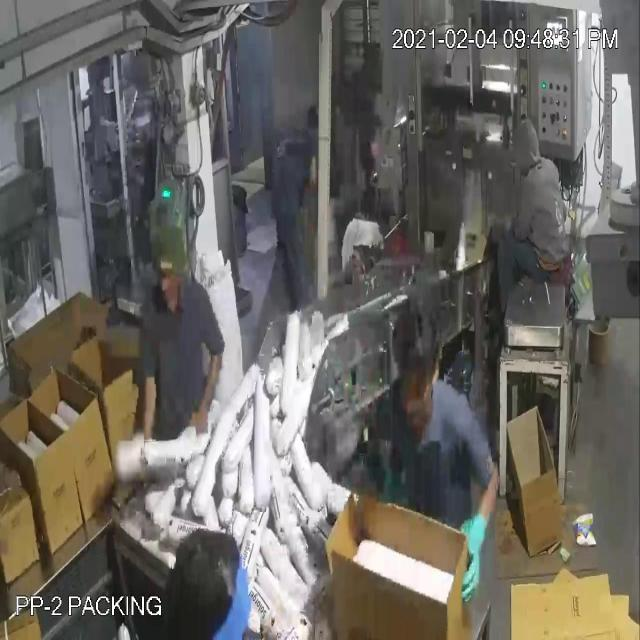gloves: (452, 500, 498, 601)
no-gloves: (184, 332, 227, 446), (132, 362, 164, 467)
